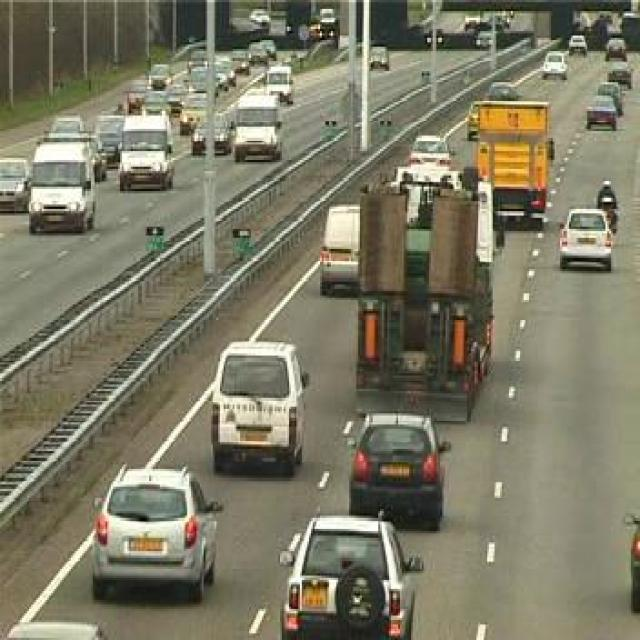other: (466, 95, 560, 219), (444, 313, 476, 375), (354, 304, 382, 364)
